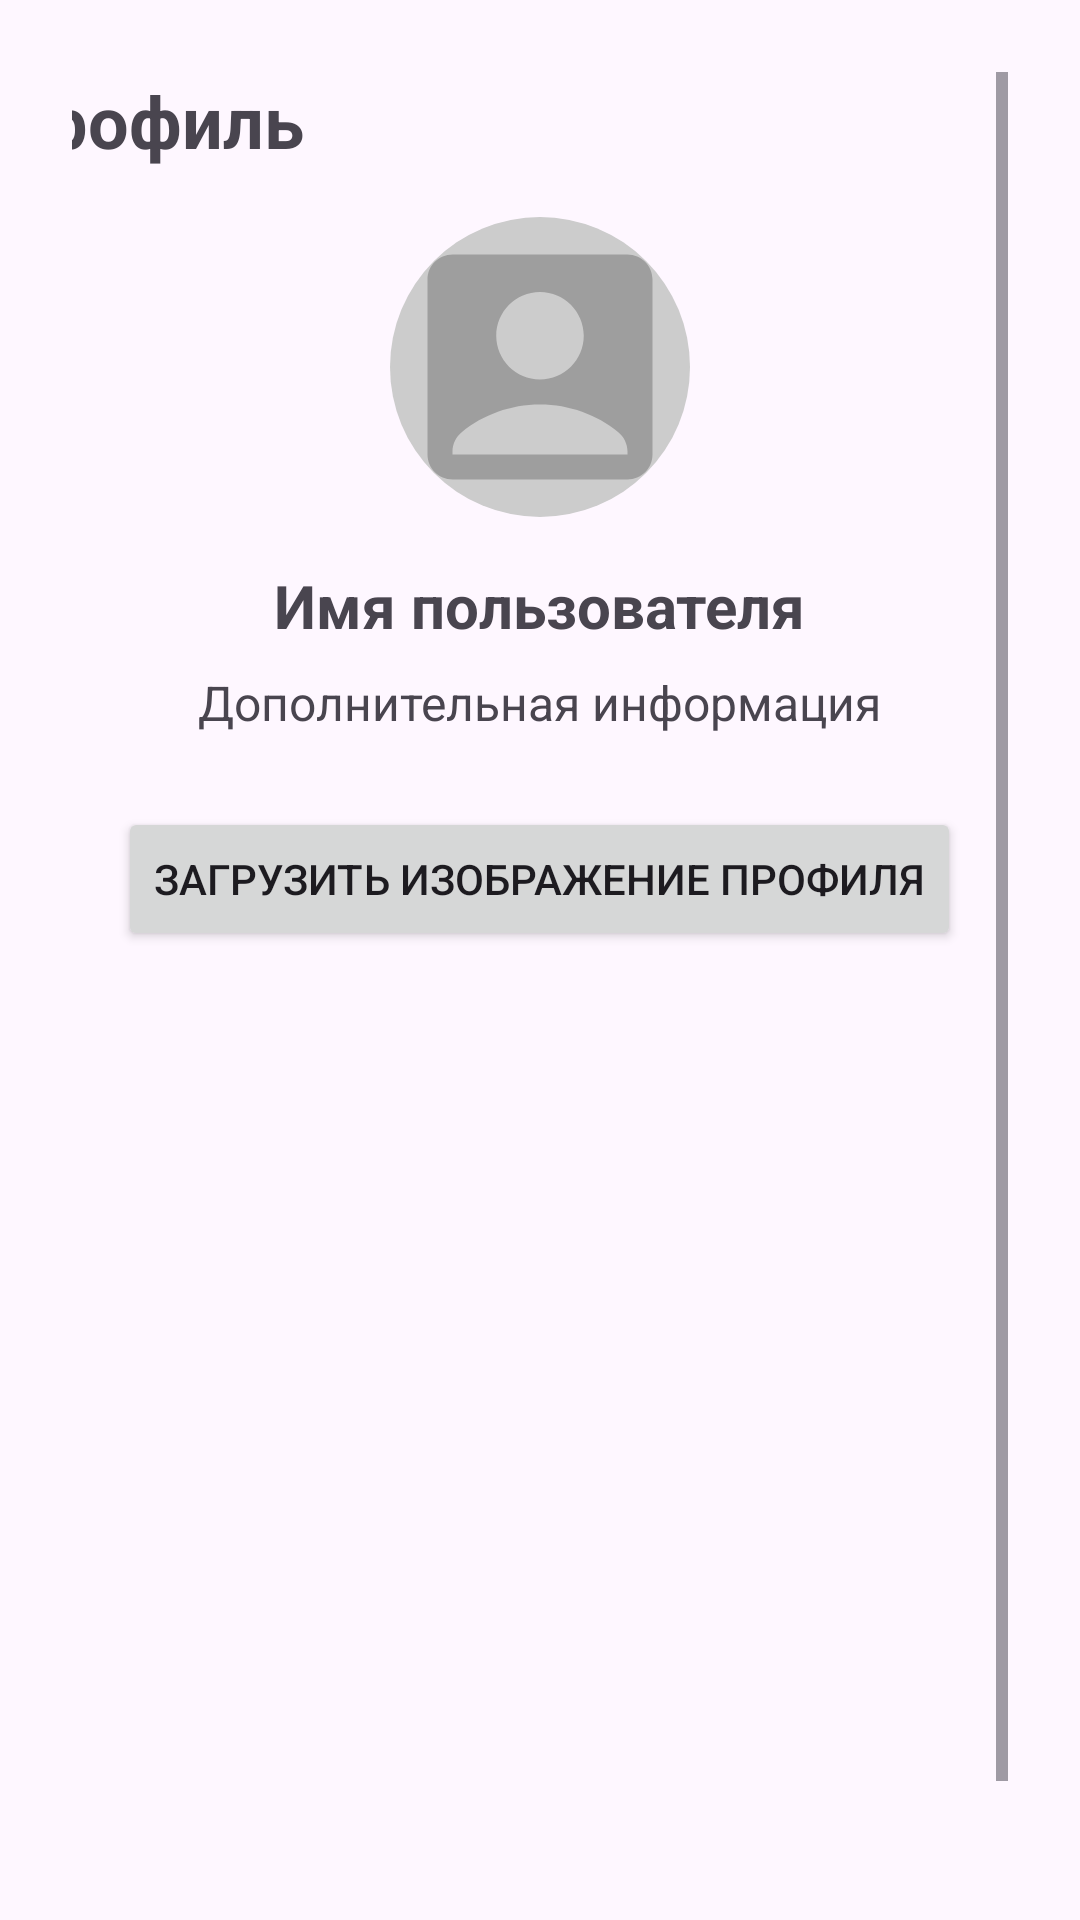

Screen size 1080w x 1920h. Icon name, then its box in pixels as box(x1, y1, x2, y2):
Изображение профиля: box(390, 217, 690, 517)
